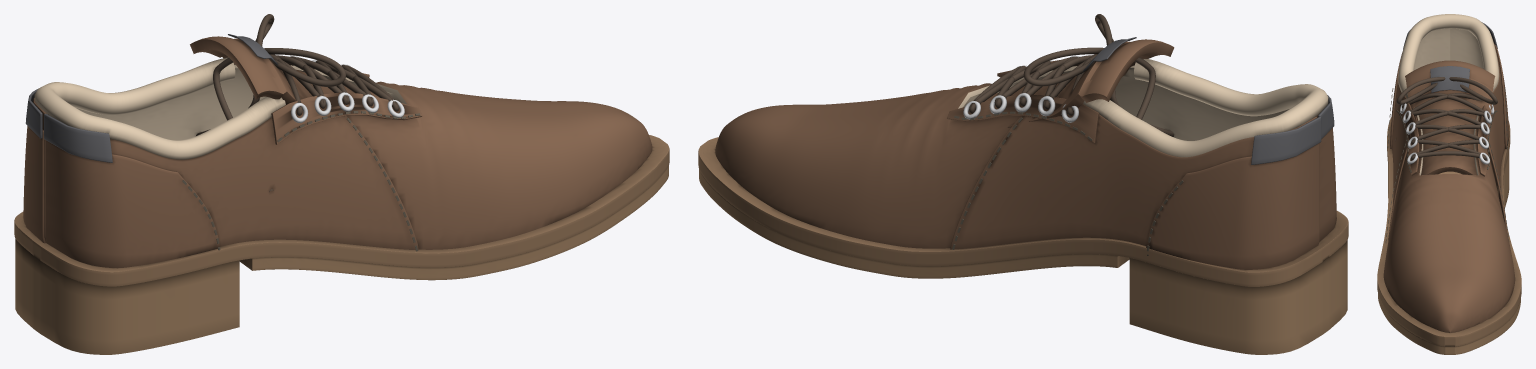
File: derby-plain-hi.glb
The picture shows the model from 3 angles, left to right: view 1: azimuth 30°, elevation 25°; view 2: azimuth 150°, elevation 25°; view 3: azimuth 270°, elevation 25°; orthographic projection. The views are drawn at different scales.
Visible parts, largest first — view 1: upper, quarterL, heelL, heelblock, welt, collar, outsole, laces, tongue, eyestayL, heelM, tabL (+2 smaller); view 2: upper, quarterM, heelM, heelblock, welt, collar, outsole, laces, tongue, tabM, eyestayM, heelL (+1 smaller); view 3: upper, tongue, welt, laces, collar, quarterM, outsole, quarterL, label, eyestayL, stitches, heelM (+3 smaller).
Boxes of the visible parts, x1=… form: upper: x1=76, y1=64, x2=652, y2=249; quarterL: x1=48, y1=114, x2=418, y2=250; heelL: x1=46, y1=140, x2=219, y2=268; heelblock: x1=15, y1=239, x2=239, y2=354; welt: x1=14, y1=135, x2=669, y2=286; collar: x1=34, y1=57, x2=285, y2=159; outsole: x1=239, y1=165, x2=668, y2=280; laces: x1=196, y1=14, x2=398, y2=191; tongue: x1=190, y1=36, x2=378, y2=104; eyestayL: x1=271, y1=92, x2=422, y2=144; heelM: x1=23, y1=126, x2=45, y2=243; tabL: x1=44, y1=113, x2=112, y2=162; upper: x1=715, y1=65, x2=1288, y2=248; quarterM: x1=950, y1=114, x2=1316, y2=249; heelM: x1=1146, y1=143, x2=1319, y2=269; heelblock: x1=1129, y1=240, x2=1347, y2=354; welt: x1=698, y1=137, x2=1348, y2=286; collar: x1=1083, y1=59, x2=1328, y2=157; outsole: x1=699, y1=169, x2=1129, y2=278; laces: x1=969, y1=14, x2=1174, y2=136; tongue: x1=984, y1=39, x2=1174, y2=127; tabM: x1=1251, y1=117, x2=1321, y2=164; eyestayM: x1=946, y1=94, x2=1099, y2=143; heelL: x1=1319, y1=128, x2=1336, y2=242; upper: x1=1383, y1=28, x2=1515, y2=332; tongue: x1=1405, y1=60, x2=1495, y2=175; welt: x1=1377, y1=117, x2=1521, y2=346; laces: x1=1395, y1=77, x2=1497, y2=160; collar: x1=1398, y1=14, x2=1499, y2=97; quarterM: x1=1487, y1=39, x2=1507, y2=235; outsole: x1=1378, y1=177, x2=1520, y2=354; quarterL: x1=1388, y1=81, x2=1417, y2=240; label: x1=1430, y1=66, x2=1469, y2=92; eyestayL: x1=1396, y1=96, x2=1419, y2=175; stitches: x1=1385, y1=88, x2=1509, y2=242; heelM: x1=1494, y1=43, x2=1509, y2=149.
Size of the model in its own units: 0.307 by 0.113 by 0.0925.
